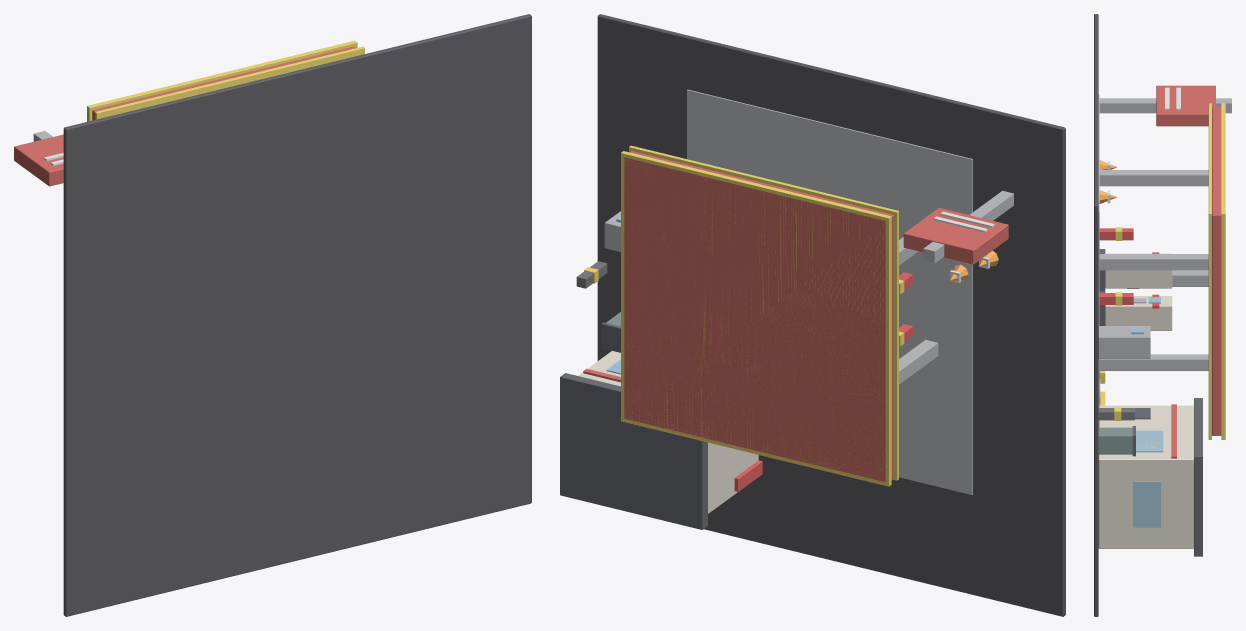
Rendered from gasstation.fbx.
The picture shows the model from 3 angles, left to right: view 1: azimuth 30°, elevation 25°; view 2: azimuth 150°, elevation 25°; view 3: azimuth 270°, elevation 25°; orthographic projection. The views are drawn at different scales.
Parts seen in each view (by area): view 1: GroundBase, Canopy_Trim_Lower, Canopy_Trim_Upper, PriceSign_Panel, Canopy; view 2: GroundBase, Canopy, FuelPad, Kiosk_Roof, Canopy_Trim_Upper, PriceSign_Panel, Canopy_Trim_Lower, Kiosk, PriceSign_Post, CanopyColumn_01; view 3: Kiosk, Canopy, GroundBase, PriceSign_Panel, CanopyColumn_03, CanopyColumn_04, FuelPump_02, Canopy_Trim_Upper, AirWaterServiceBox, CanopyColumn_02, Kiosk_Roof, FuelPump_01 (+12 smaller).
Boxes of the visible parts, <box> form: GroundBase: <box>63,14,531,616</box>; Canopy_Trim_Lower: <box>95,46,364,119</box>; Canopy_Trim_Upper: <box>87,40,357,121</box>; PriceSign_Panel: <box>14,134,63,186</box>; Canopy: <box>92,46,355,120</box>; GroundBase: <box>597,14,1065,616</box>; Canopy: <box>624,151,893,482</box>; FuelPad: <box>687,89,972,494</box>; Kiosk_Roof: <box>560,373,707,529</box>; Canopy_Trim_Upper: <box>621,151,891,486</box>; PriceSign_Panel: <box>903,207,1008,264</box>; Canopy_Trim_Lower: <box>629,145,898,480</box>; Kiosk: <box>578,351,758,513</box>; PriceSign_Post: <box>923,190,1013,263</box>; CanopyColumn_01: <box>899,339,938,384</box>; Kiosk: <box>1098,405,1193,548</box>; Canopy: <box>1212,107,1221,435</box>; GroundBase: <box>1094,14,1098,616</box>; PriceSign_Panel: <box>1156,85,1215,126</box>; CanopyColumn_03: <box>1099,170,1208,186</box>; CanopyColumn_04: <box>1099,254,1208,270</box>; FuelPump_02: <box>1105,296,1172,330</box>; Canopy_Trim_Upper: <box>1221,103,1225,439</box>; AirWaterServiceBox: <box>1098,326,1150,358</box>; CanopyColumn_02: <box>1099,354,1208,370</box>; Kiosk_Roof: <box>1194,398,1202,556</box>; FuelPump_01: <box>1105,253,1172,288</box>.
Size of the model in its own units: 800 by 800 by 243.
